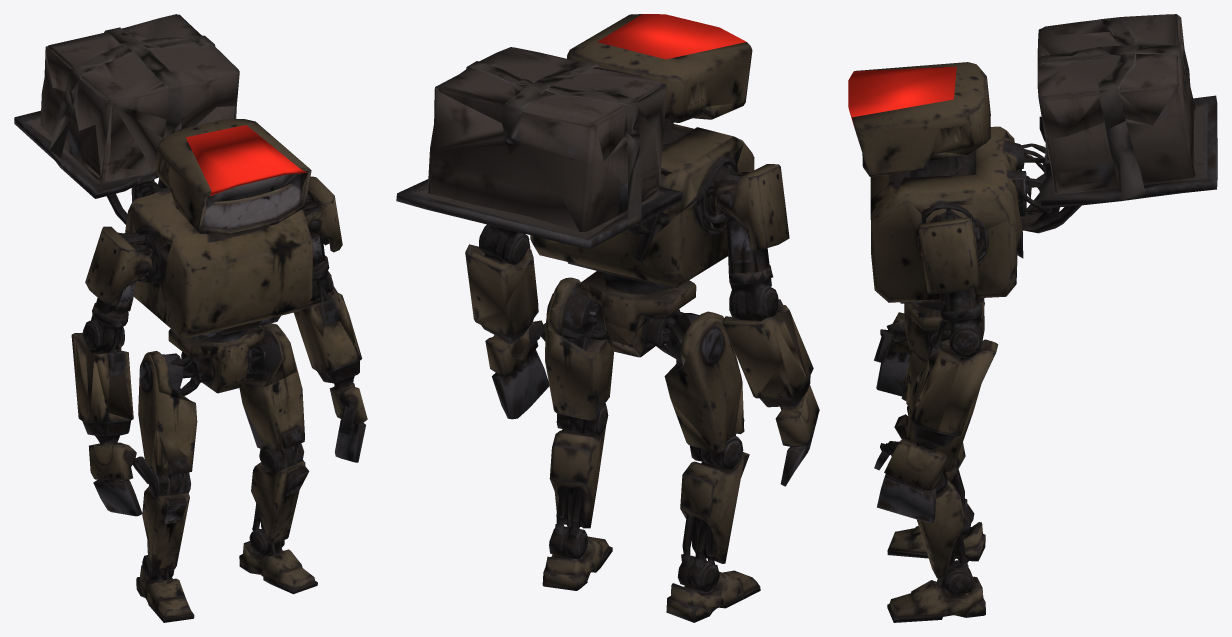
File: carrier_night.fbx
The picture shows the model from 3 angles, left to right: view 1: azimuth 30°, elevation 25°; view 2: azimuth 150°, elevation 25°; view 3: azimuth 270°, elevation 25°; orthographic projection. The views are drawn at different scales.
Visible parts, largest first — view 1: Torso, Head, LeftShin, Hand, Shin, Thigh, LeftHand, LeftThigh, UpperArm, Forearm, Extra, LeftForearm (+1 smaller); view 2: Torso, Head, Shin, LeftShin, UpperArm, Thigh, LeftThigh, LeftHand, Forearm, Hand, LeftForearm, Extra; view 3: Torso, Head, LeftUpperArm, LeftShin, LeftHand, LeftForearm, Extra, Shin, Hand, LeftThigh, Thigh.
Boxes of the visible parts, x1,y1,x2,y2 form: Torso: (14, 48, 321, 402); Head: (45, 14, 311, 230); LeftShin: (239, 443, 317, 594); Hand: (75, 337, 187, 516); Shin: (136, 472, 194, 622); Thigh: (138, 351, 208, 480); LeftHand: (297, 309, 367, 462); LeftThigh: (239, 342, 304, 450); UpperArm: (85, 201, 174, 314); Forearm: (71, 300, 132, 420); Extra: (186, 125, 307, 195); LeftForearm: (294, 256, 357, 351); Torso: (396, 87, 754, 365); Head: (435, 14, 752, 184); Shin: (666, 402, 760, 622); LeftShin: (542, 380, 612, 590); UpperArm: (645, 136, 789, 275); Thigh: (606, 310, 744, 453); LeftThigh: (545, 289, 632, 420); LeftHand: (474, 257, 549, 419); Forearm: (722, 229, 807, 397); Hand: (728, 310, 819, 486); LeftForearm: (465, 224, 533, 318); Extra: (597, 14, 746, 59); Torso: (856, 19, 1217, 388); Head: (852, 14, 1185, 188); LeftUpperArm: (904, 187, 1029, 319); LeftShin: (887, 468, 985, 622); LeftHand: (874, 363, 969, 522); LeftForearm: (914, 289, 998, 436); Extra: (848, 66, 956, 126); Shin: (887, 405, 985, 561); Hand: (874, 312, 911, 396); LeftThigh: (904, 319, 982, 471); Thigh: (901, 352, 926, 406).
Bounding box in the file's own units: 3.31 × 5.68 × 3.56.
Materials: 1 (1 with a texture image).
